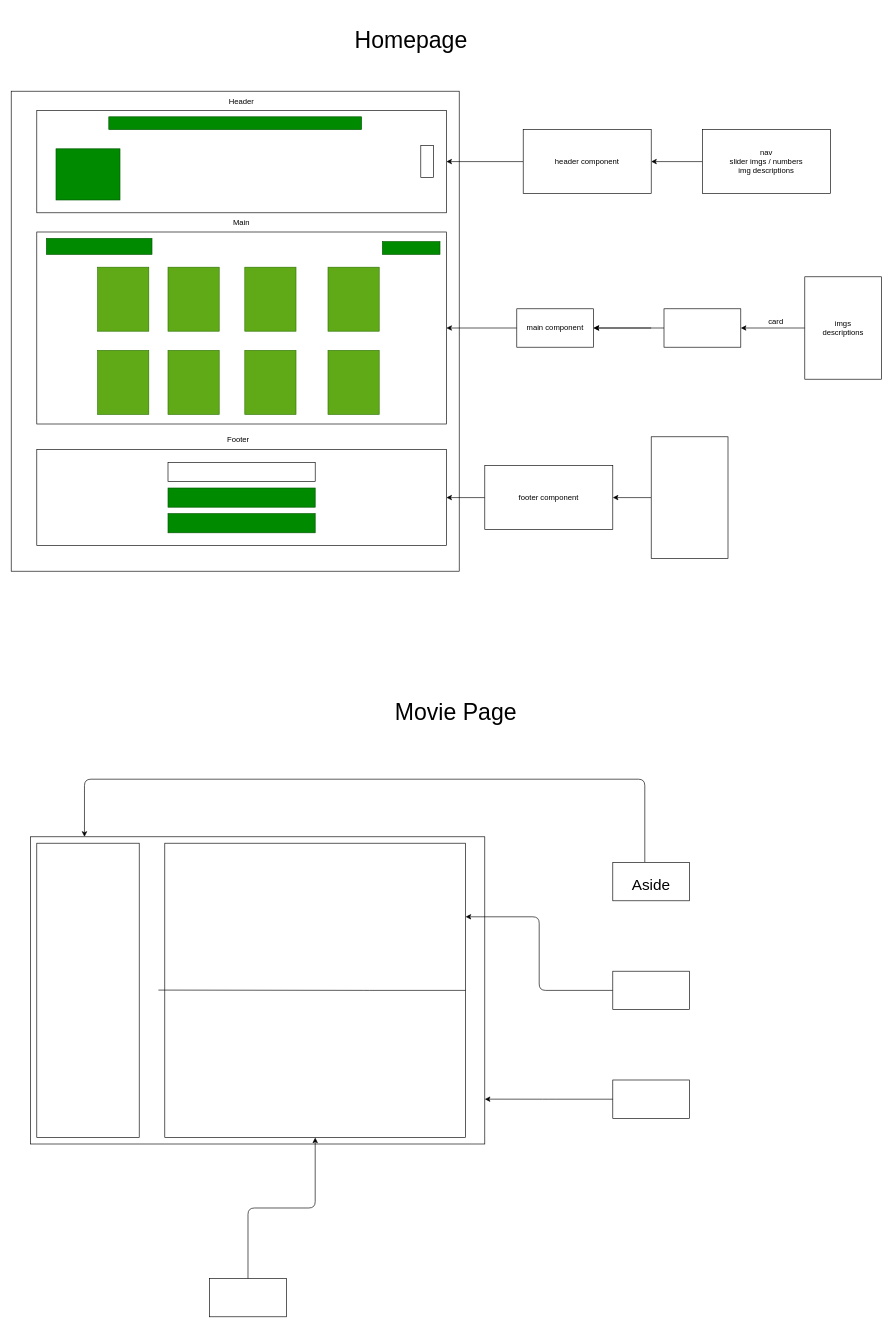
The diagram is 893 pixels wide and 1328 high, and some of its shapes have lost their labels. The shapes that lost their labels are listed below. From the top down, each one's centre as x and y in pixels, then its label:
At pixel 411 247: "see more".
At pixel 702 327: "card heading".
At pixel 689 497: "social media privacy authentication".
